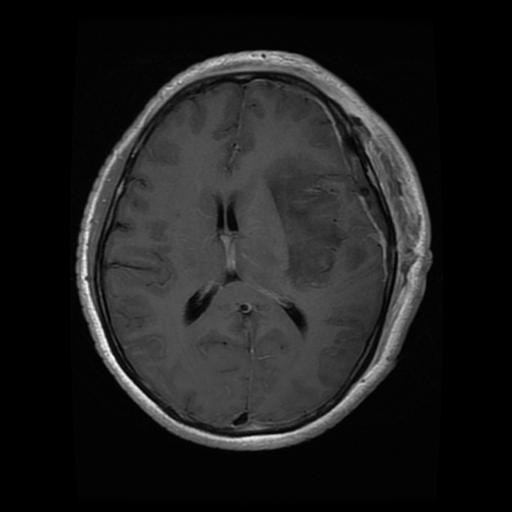Gliomia_tumour: (261, 152, 349, 287)
